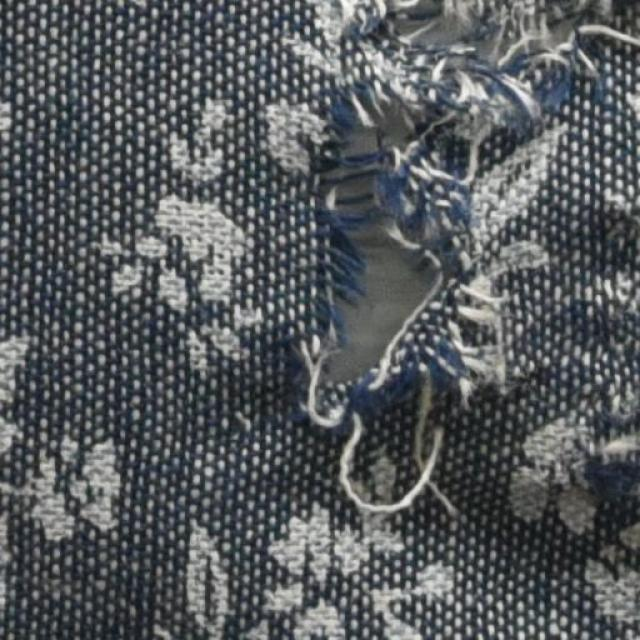Hole: (333, 111, 431, 389)
Snag: (322, 269, 516, 511), (330, 0, 603, 116)
